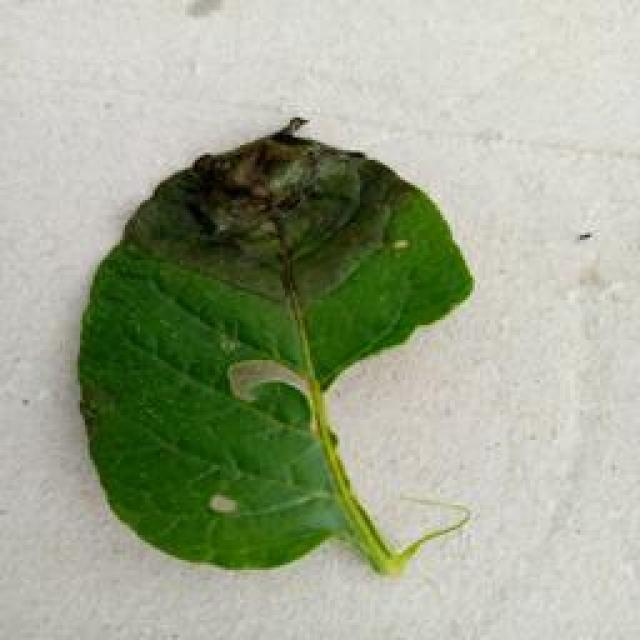late_blight: (70, 115, 478, 580)
